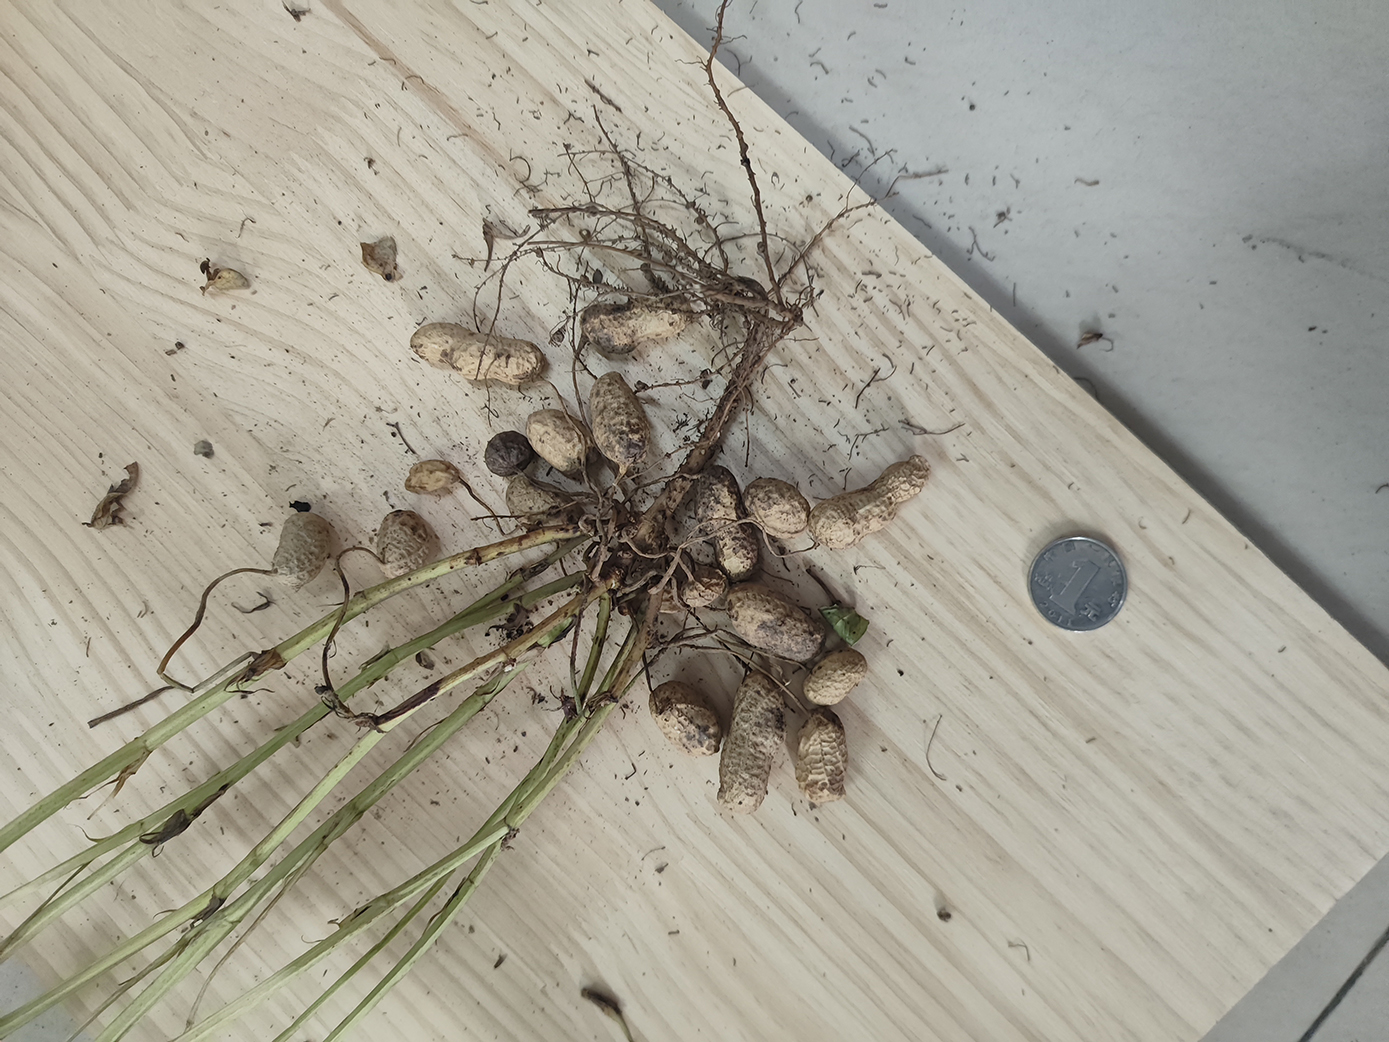h: (807, 454, 930, 549), (717, 671, 786, 815), (409, 321, 545, 384), (726, 583, 827, 664), (694, 465, 759, 582), (590, 371, 651, 466), (649, 680, 724, 757), (795, 706, 848, 804), (375, 510, 442, 579), (525, 408, 593, 475), (506, 475, 584, 532), (271, 512, 329, 586), (742, 477, 809, 539), (802, 646, 868, 706), (403, 460, 458, 495), (680, 570, 726, 607)
l: (581, 304, 693, 355), (484, 430, 533, 477)
